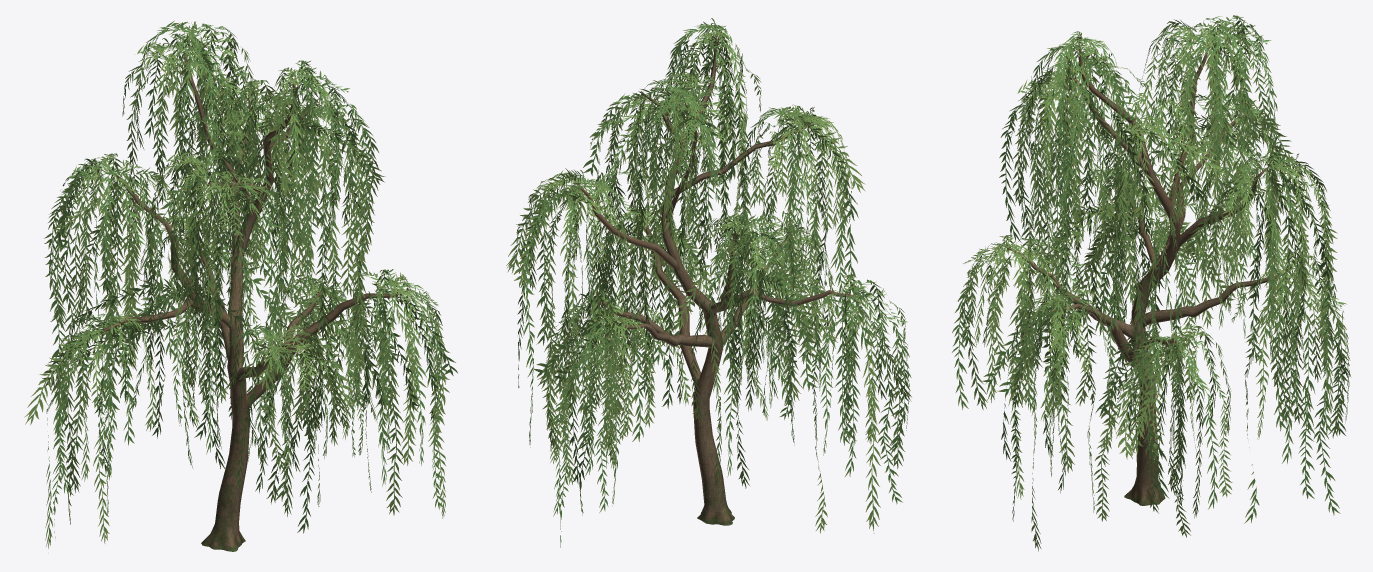
Rendered from TreeWillow.fbx.
3 views of the same model, side by side, from view 1: azimuth 30°, elevation 25°; view 2: azimuth 150°, elevation 25°; view 3: azimuth 270°, elevation 25° (orthographic). The views are drawn at different scales.
Visible parts, largest first — view 1: SM_cmn_mount_WillowTree_01a; view 2: SM_cmn_mount_WillowTree_01a; view 3: SM_cmn_mount_WillowTree_01a.
Part boxes in pixels (x1,y1,x2,y2): SM_cmn_mount_WillowTree_01a: (24, 20, 457, 551); SM_cmn_mount_WillowTree_01a: (506, 18, 911, 547); SM_cmn_mount_WillowTree_01a: (952, 15, 1351, 551).
Bounding box in the file's own units: 473 × 551 × 428.
